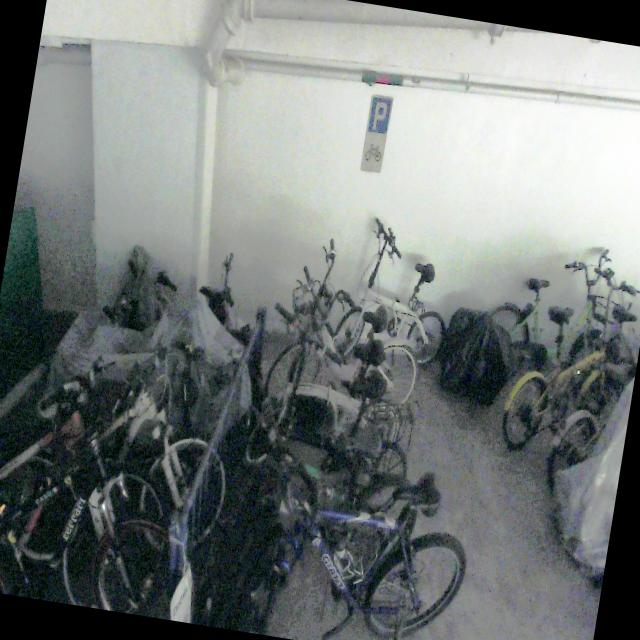bike: (0, 310, 249, 594), (208, 438, 480, 640), (0, 339, 194, 618), (234, 354, 421, 548), (242, 299, 416, 488), (263, 232, 437, 419), (474, 232, 640, 418), (499, 255, 640, 463), (332, 213, 462, 371)
